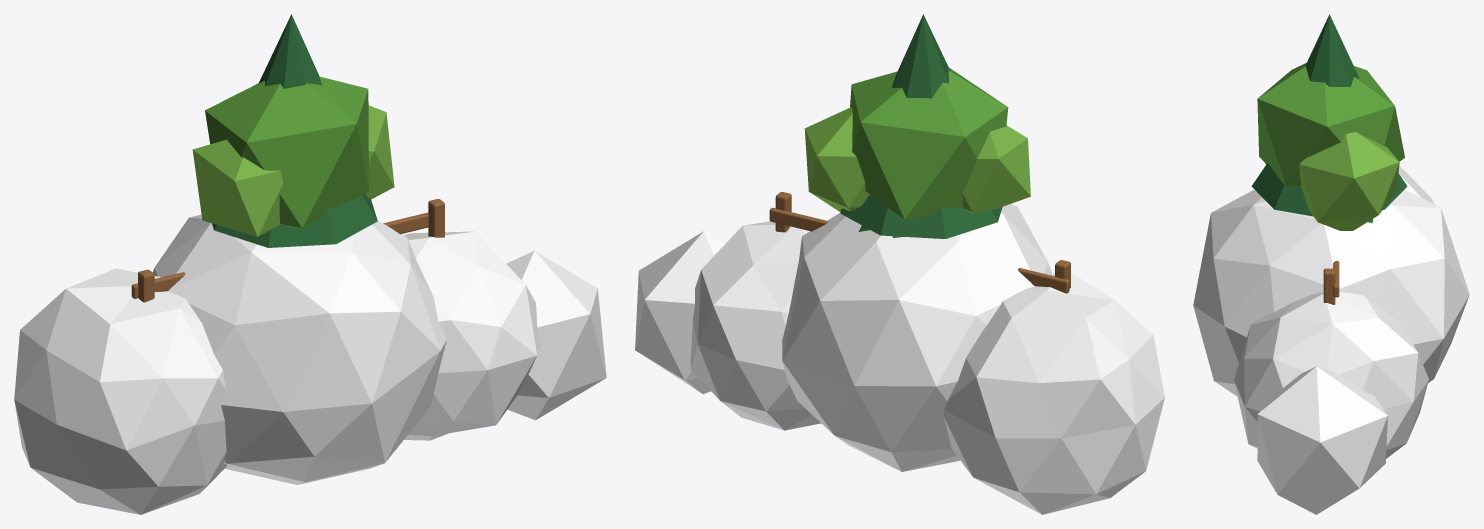
The model's file is props.glb.
3 renders of one model, left to right at view 1: azimuth 30°, elevation 25°; view 2: azimuth 150°, elevation 25°; view 3: azimuth 270°, elevation 25°, orthographic. The views are drawn at different scales.
Visible parts, largest first — view 1: Cloud, TreeRound, TreePine, Fence; view 2: Cloud, TreeRound, TreePine, Fence; view 3: Cloud, TreeRound, TreePine, Fence.
Part boxes in pixels (box(x1,y1,x2,y2)): Cloud: box(14, 214, 606, 514); TreeRound: box(192, 76, 394, 236); TreePine: box(212, 14, 377, 247); Fence: box(131, 199, 444, 302); Cloud: box(635, 204, 1164, 514); TreeRound: box(804, 67, 1030, 219); TreePine: box(840, 14, 1002, 238); Fence: box(769, 192, 1070, 293); Cloud: box(1193, 166, 1469, 514); TreeRound: box(1257, 63, 1404, 230); TreePine: box(1251, 14, 1407, 223); Fence: box(1323, 260, 1339, 304).
Bounding box in the file's own units: 5.68 × 4.61 × 2.84.
